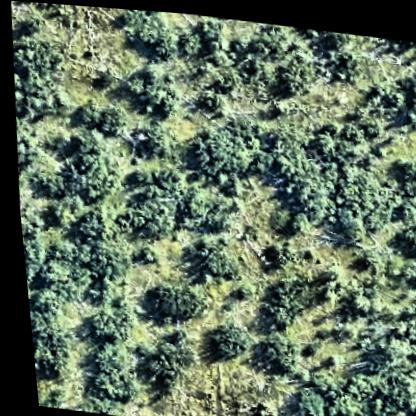tree-top: (186, 97, 262, 184), (351, 319, 416, 408), (11, 27, 66, 125), (268, 130, 330, 212), (75, 335, 137, 404), (27, 232, 83, 305), (112, 179, 173, 244), (22, 294, 68, 370), (256, 257, 306, 325), (58, 140, 116, 198), (73, 233, 129, 291), (173, 176, 233, 230), (136, 330, 191, 386), (265, 39, 321, 94), (74, 292, 133, 343), (118, 61, 175, 113), (68, 90, 122, 142), (199, 311, 247, 363), (145, 276, 198, 323), (326, 151, 376, 198), (250, 326, 296, 375), (187, 231, 232, 277), (124, 7, 171, 50), (60, 201, 105, 245), (44, 182, 87, 228), (325, 196, 368, 240), (376, 147, 416, 194), (132, 113, 171, 157), (232, 43, 269, 86), (249, 16, 289, 55), (17, 223, 40, 288), (283, 377, 323, 414), (311, 26, 345, 66), (334, 362, 371, 397), (321, 386, 362, 416), (207, 29, 242, 64), (256, 233, 293, 266), (31, 169, 66, 202), (385, 145, 416, 182), (335, 114, 367, 149), (176, 25, 206, 60), (308, 119, 339, 150), (340, 285, 369, 313), (195, 12, 225, 39), (356, 107, 384, 132), (391, 189, 416, 216), (400, 217, 416, 256), (226, 276, 253, 299), (395, 98, 416, 120), (131, 243, 152, 263), (296, 405, 332, 416), (326, 409, 357, 416)
